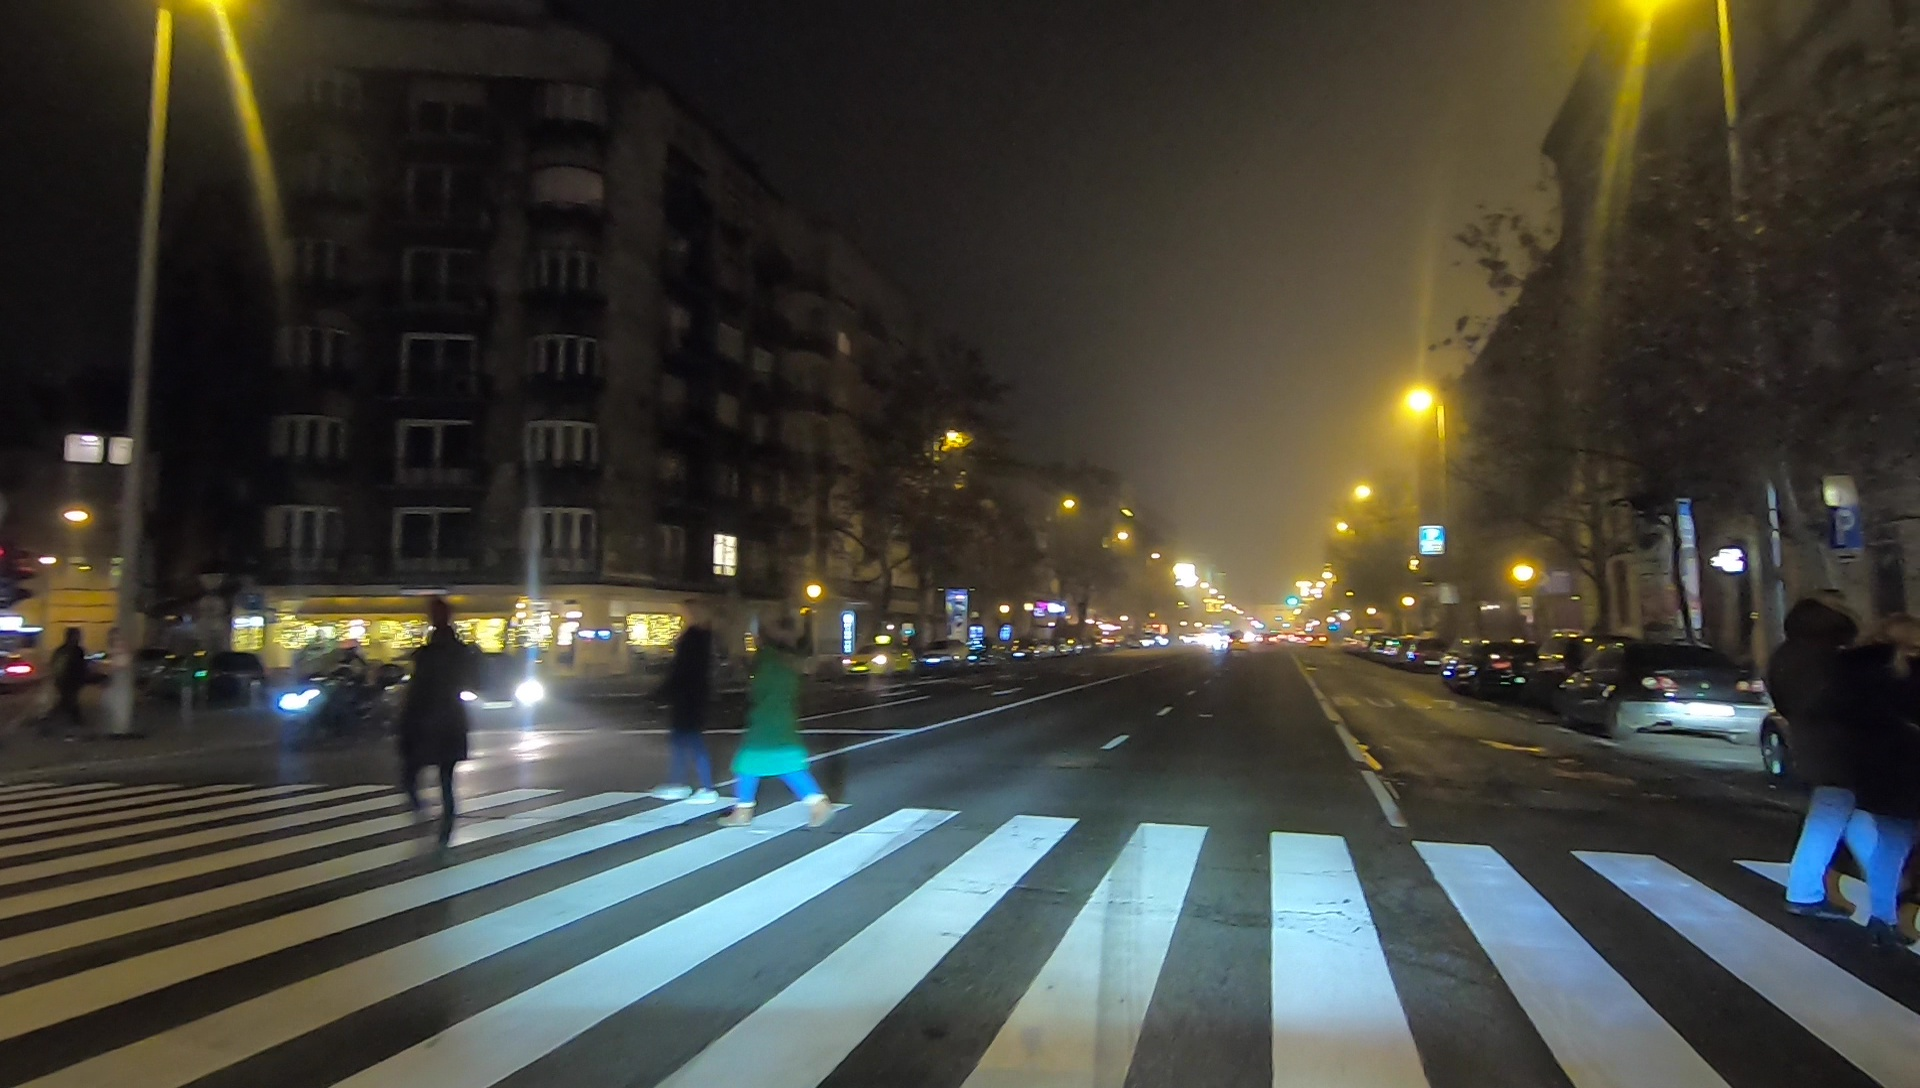person: (1778, 589, 1875, 917), (726, 604, 836, 832), (388, 600, 482, 839), (1852, 604, 1920, 922), (654, 604, 717, 806), (41, 619, 91, 724)
